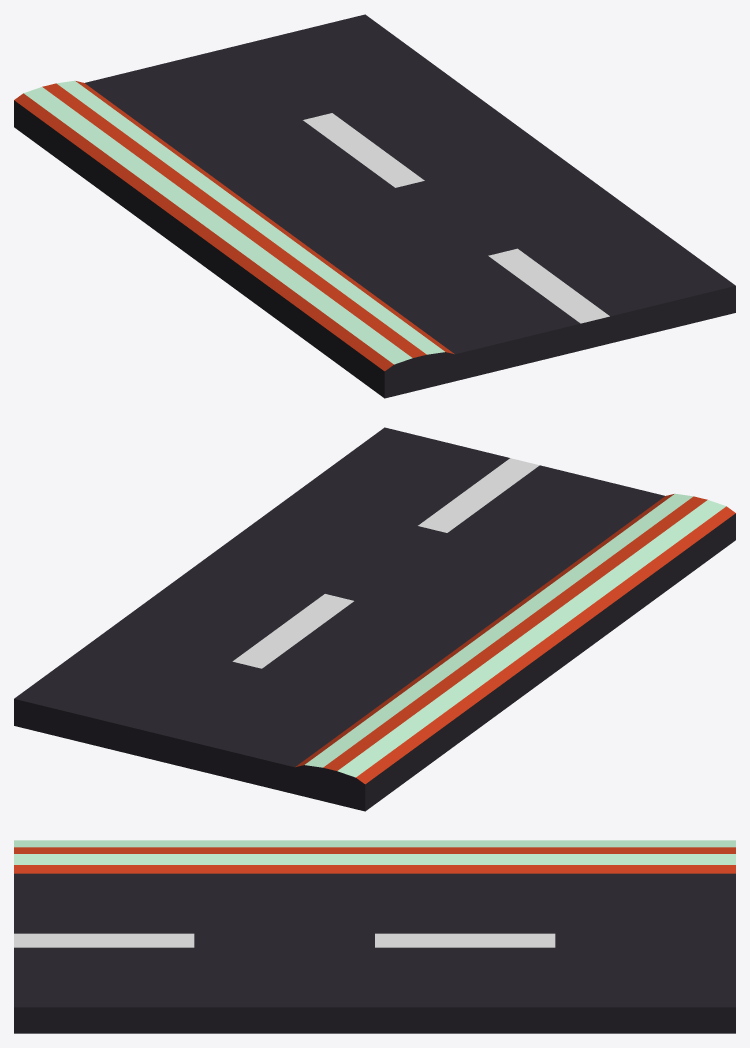
Rendered from border.fbx.
3 views of the same model, one above another, from view 1: azimuth 30°, elevation 25°; view 2: azimuth 150°, elevation 25°; view 3: azimuth 270°, elevation 25° (orthographic). The views are drawn at different scales.
Visible parts, largest first — view 1: Cube; view 2: Cube; view 3: Cube.
Part boxes in pixels (<box>): Cube: <box>14,14,735,398</box>; Cube: <box>14,427,735,811</box>; Cube: <box>14,840,735,1033</box>.
Size of the model in its own units: 563 by 51.32 by 1028.
